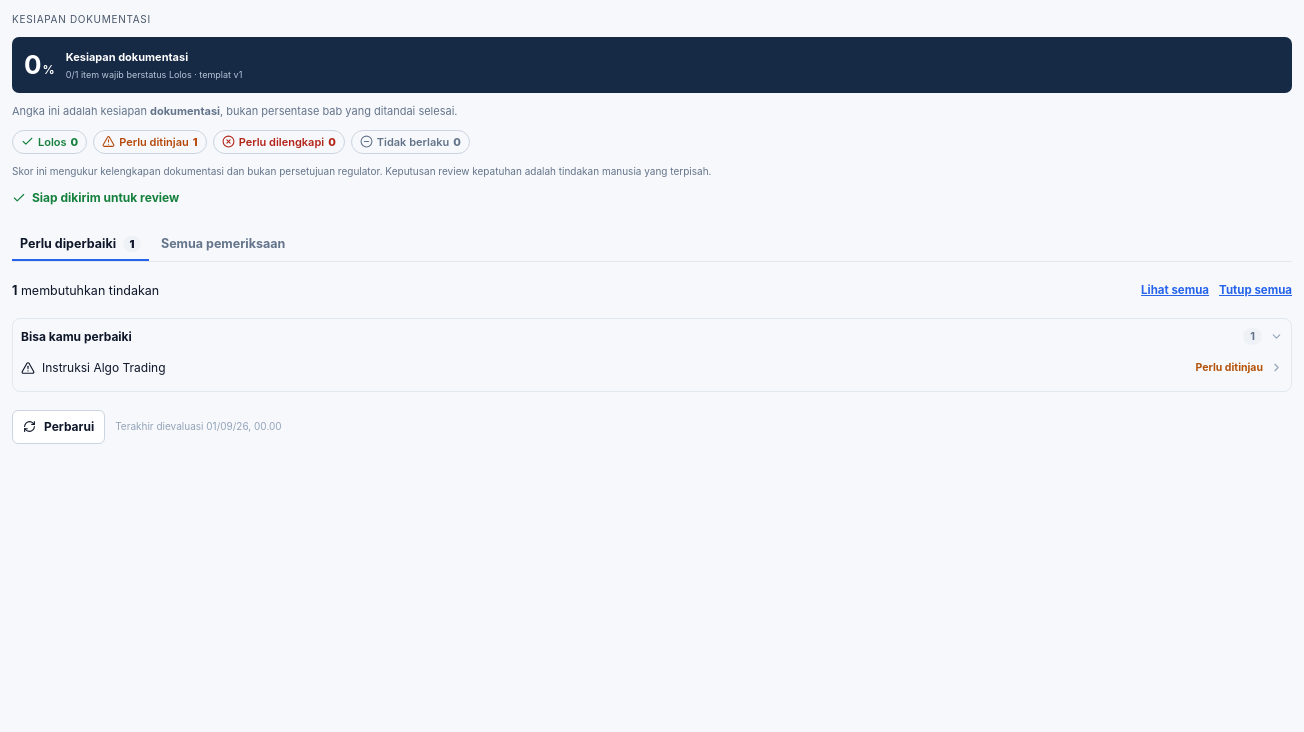
ValidationPanel — 'Sudah ada di manual' only on an eligible prose-detection WARNING › a genuine prose-detection WARNING (Algo Trading) SHOWS the button
This screenshot has width=1304, height=732.
Click the button "Instruksi Algo Trading Perlu ditinjau".
click(104, 367)  # box [21, 352, 1283, 382]
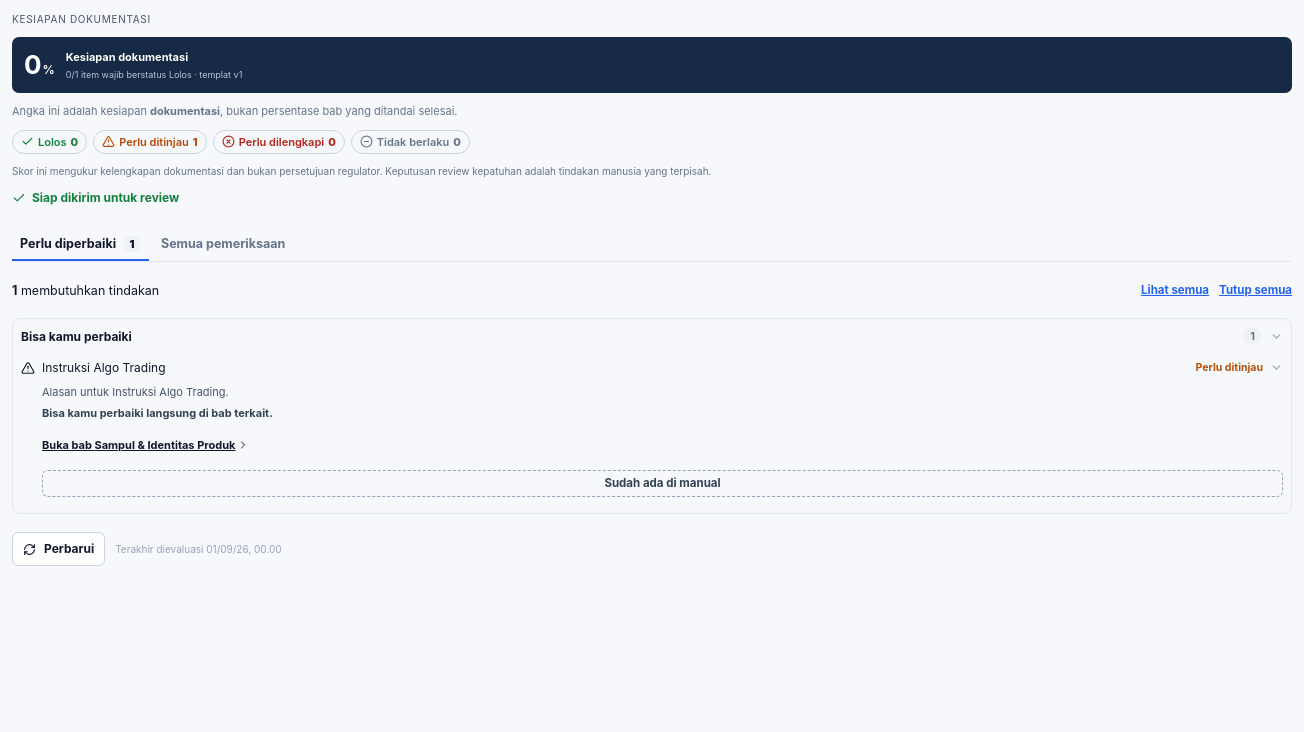
Expected: the button "Sudah ada di manual" is shown, [42, 470, 1283, 497]
